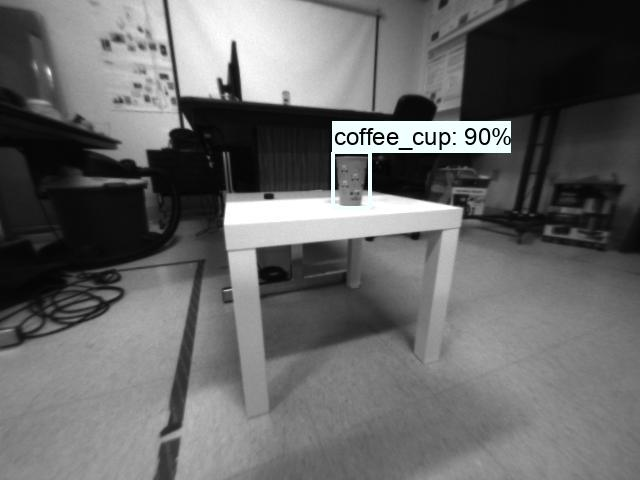coffee_cup: (331, 153, 370, 207)
